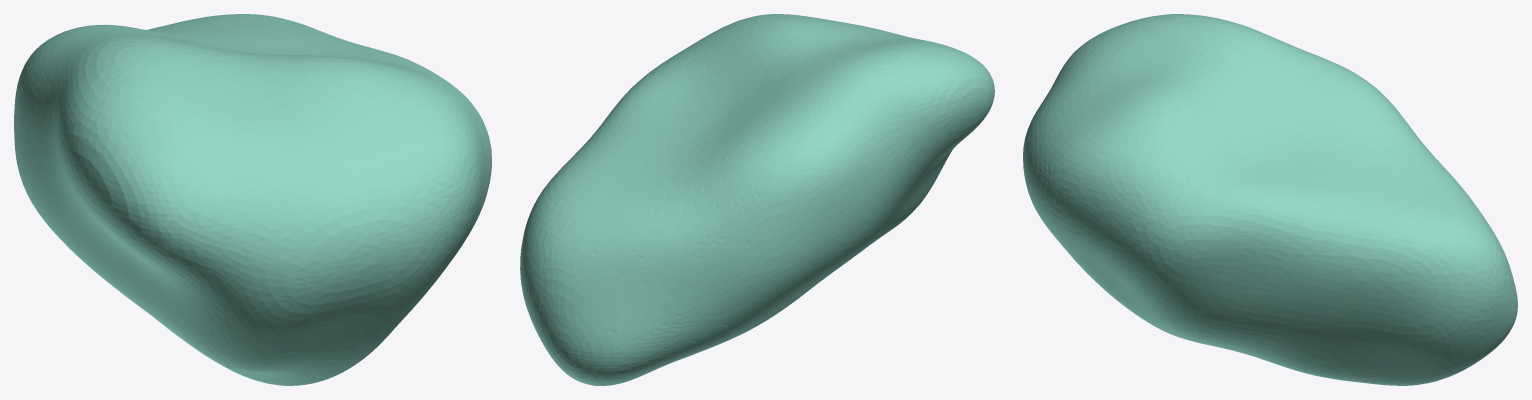
Rendered from ours.glb.
3 renders of one model, left to right at view 1: azimuth 30°, elevation 25°; view 2: azimuth 150°, elevation 25°; view 3: azimuth 270°, elevation 25°, orthographic. The views are drawn at different scales.
Parts seen in each view (by area): view 1: world; view 2: world; view 3: world.
Boxes of the visible parts, bbox=[...] form: world: bbox=[14, 14, 491, 385]; world: bbox=[520, 14, 994, 385]; world: bbox=[1023, 14, 1517, 385].
Bounding box in the file's own units: 0.6151 × 0.5409 × 0.8599.
